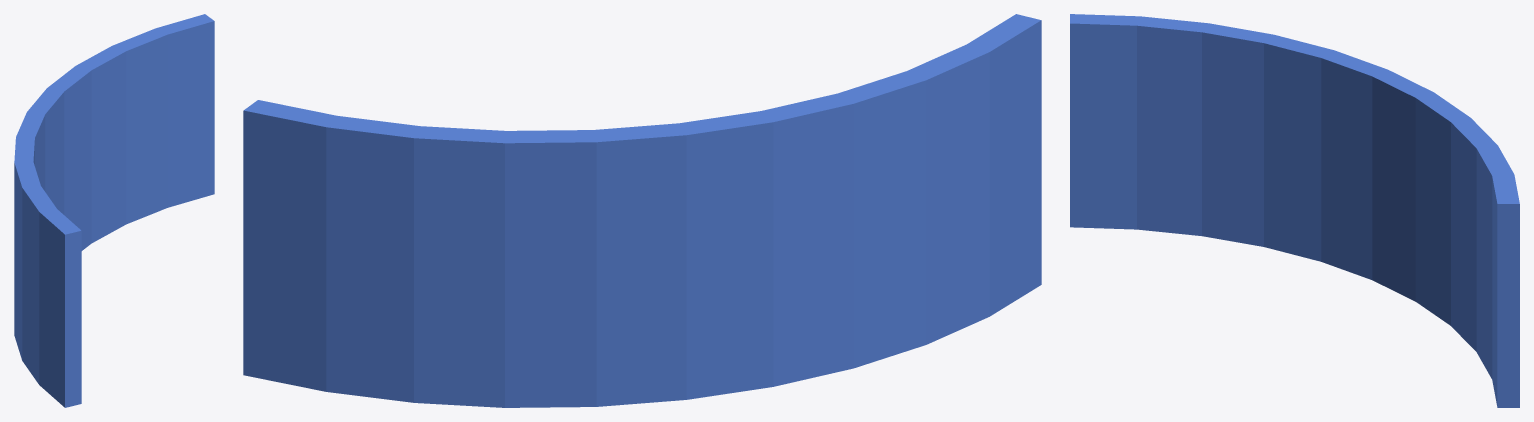
Rendered from ShortWall_Band2_Corner_Outer_Collision.fbx.
3 views of the same model, side by side, from view 1: azimuth 30°, elevation 25°; view 2: azimuth 150°, elevation 25°; view 3: azimuth 270°, elevation 25° (orthographic). The views are drawn at different scales.
Visible parts, largest first — view 1: ShortWall_Band2_Corner_Outer_Collision; view 2: ShortWall_Band2_Corner_Outer_Collision; view 3: ShortWall_Band2_Corner_Outer_Collision.
Part boxes in pixels (x1=…): ShortWall_Band2_Corner_Outer_Collision: x1=14, y1=14, x2=214, y2=407; ShortWall_Band2_Corner_Outer_Collision: x1=243, y1=14, x2=1041, y2=407; ShortWall_Band2_Corner_Outer_Collision: x1=1070, y1=14, x2=1519, y2=407.
Bounding box in the file's own units: 400 × 200 × 400.
